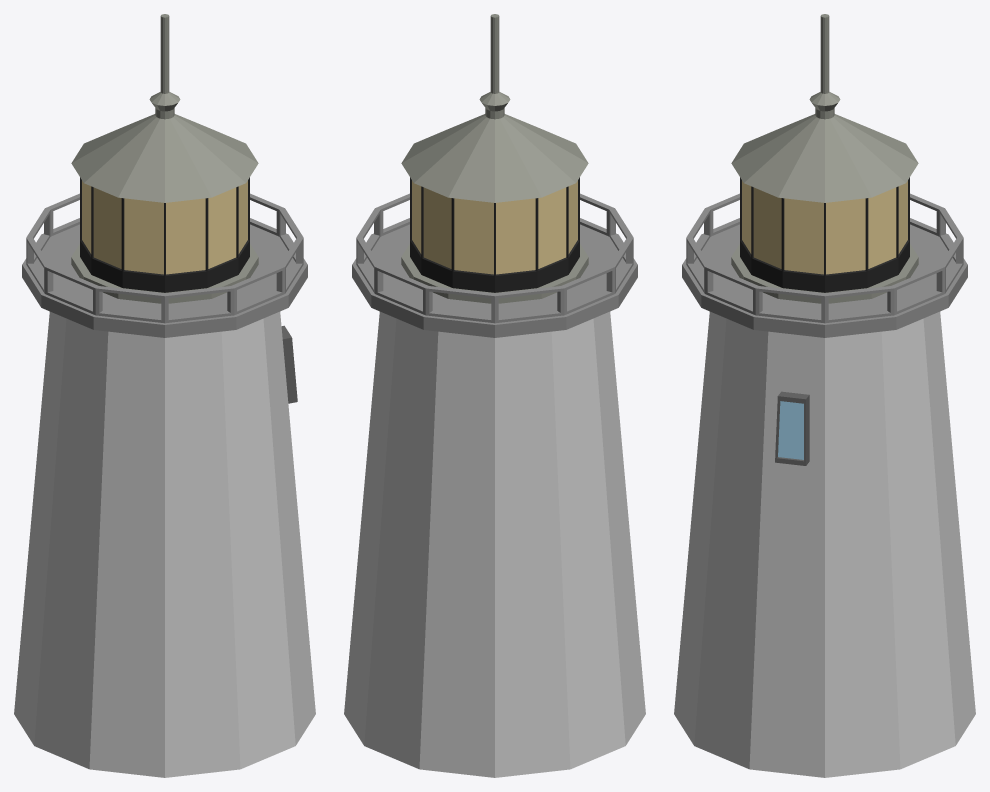
File: Lighthouse.fbx
3 views of the same model, side by side, from view 1: azimuth 30°, elevation 25°; view 2: azimuth 150°, elevation 25°; view 3: azimuth 270°, elevation 25° (orthographic).
Visible parts, largest first — view 1: Cylinder.002, Cylinder.004, Cylinder.003; view 2: Cylinder.002, Cylinder.004, Cylinder.003; view 3: Cylinder.002, Cylinder.004, Cylinder.003.
Part boxes in pixels (x1,y1,x2,y2): Cylinder.002: (14, 311, 315, 777); Cylinder.004: (71, 14, 258, 303); Cylinder.003: (22, 193, 307, 337); Cylinder.002: (344, 311, 645, 777); Cylinder.004: (401, 14, 588, 303); Cylinder.003: (352, 193, 637, 337); Cylinder.002: (674, 311, 975, 777); Cylinder.004: (731, 14, 918, 303); Cylinder.003: (682, 193, 967, 337).
Size of the model in its own units: 381 by 971 by 381.
